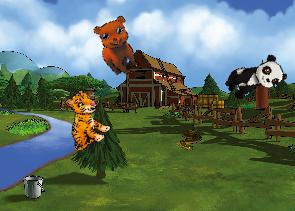bear: (86, 10, 152, 81)
panda: (221, 51, 288, 105)
tiger: (49, 86, 117, 156)
